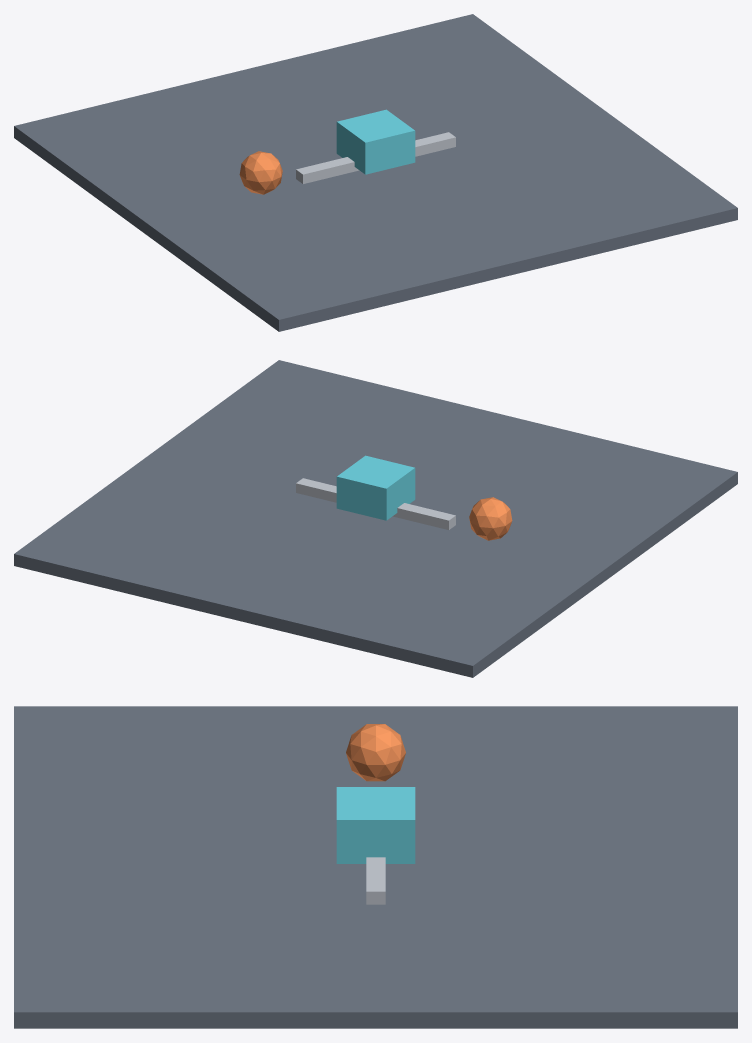
File: ConstraintSlider.glb
3 renders of one model, top to bottom at view 1: azimuth 30°, elevation 25°; view 2: azimuth 150°, elevation 25°; view 3: azimuth 270°, elevation 25°, orthographic. The views are drawn at different scales.
Parts seen in each view (by area): view 1: Ground.001, SliderBlock.001, SliderRail.001, SliderSphere.001; view 2: Ground.001, SliderBlock.001, SliderRail.001, SliderSphere.001; view 3: Ground.001, SliderBlock.001, SliderSphere.001, SliderRail.001.
Boxes of the visible parts, x1,y1,x2,y2 form: Ground.001: [14, 14, 737, 331]; SliderBlock.001: [336, 109, 415, 174]; SliderRail.001: [296, 132, 455, 183]; SliderSphere.001: [239, 151, 282, 194]; Ground.001: [14, 360, 737, 677]; SliderBlock.001: [336, 455, 415, 520]; SliderRail.001: [296, 478, 455, 529]; SliderSphere.001: [469, 497, 512, 540]; Ground.001: [14, 706, 737, 1028]; SliderBlock.001: [336, 787, 415, 863]; SliderSphere.001: [346, 724, 405, 781]; SliderRail.001: [366, 857, 385, 904].
Size of the model in its own units: 12 by 1.35 by 12.
